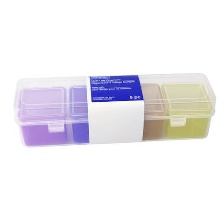plastic_box: (7, 64, 220, 153)
